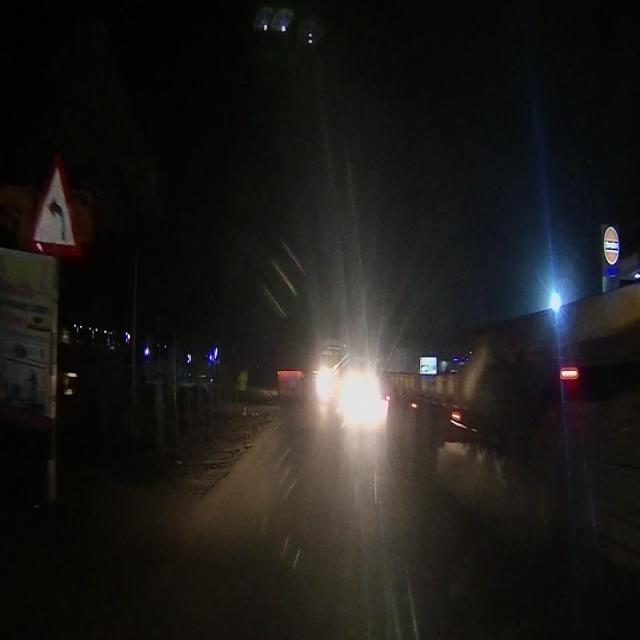left-hand-curve: (33, 169, 82, 257)
